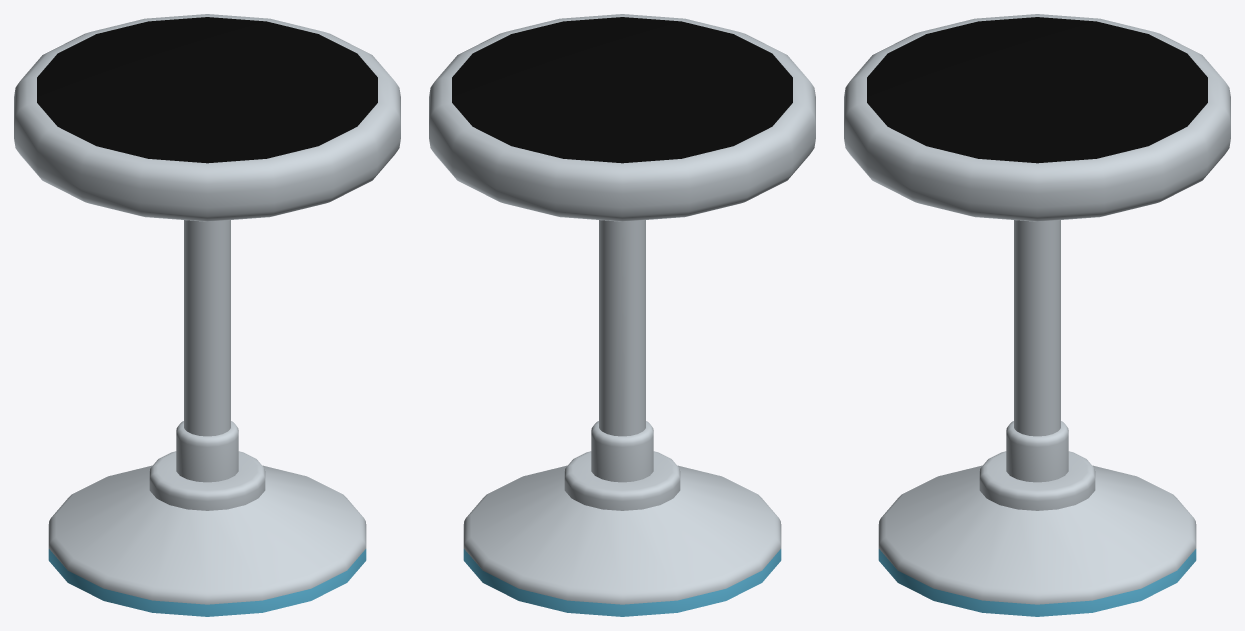
Rendered from Kitchen_Stool_V1.fbx.
3 views of the same model, side by side, from view 1: azimuth 30°, elevation 25°; view 2: azimuth 150°, elevation 25°; view 3: azimuth 270°, elevation 25° (orthographic).
Parts seen in each view (by area): view 1: Kitchen_Stool_V1; view 2: Kitchen_Stool_V1; view 3: Kitchen_Stool_V1.
Part boxes in pixels (bbox=[...]): Kitchen_Stool_V1: bbox=[14, 14, 400, 616]; Kitchen_Stool_V1: bbox=[429, 14, 815, 616]; Kitchen_Stool_V1: bbox=[844, 14, 1230, 616].
Bounding box in the file's own units: 47.78 × 61.58 × 47.06.
